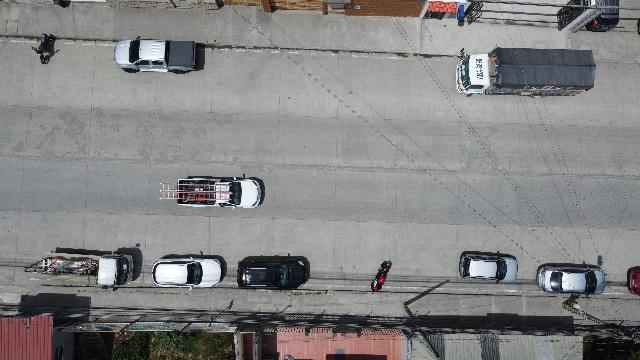Vehiculo: (43, 248, 137, 290), (175, 175, 263, 211), (236, 254, 314, 292), (114, 38, 196, 74), (536, 262, 608, 298), (152, 253, 226, 288), (459, 250, 517, 282)
